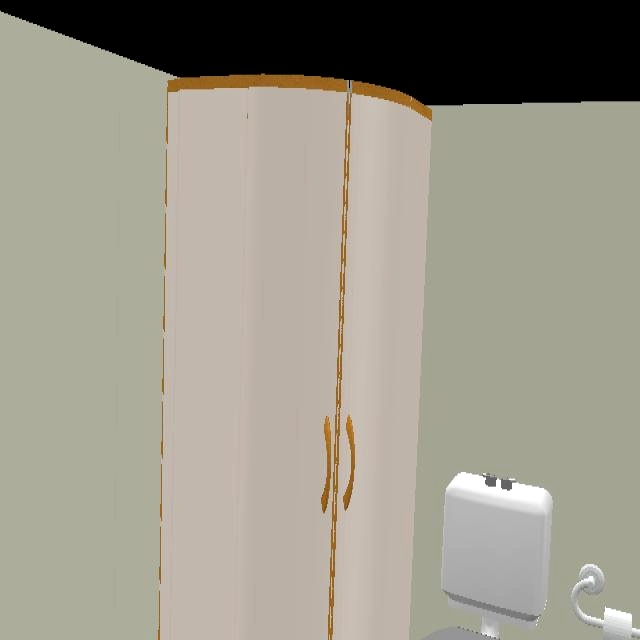shower: (157, 75, 433, 640)
toilet: (421, 472, 553, 640)
